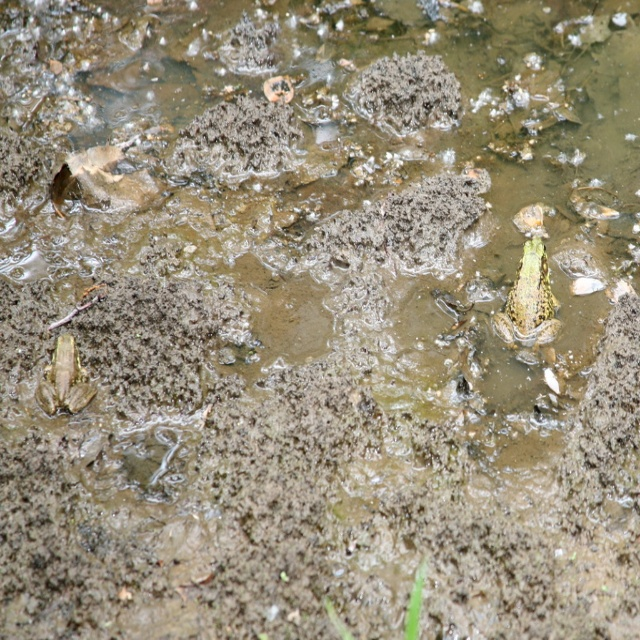Frog: (488, 236, 564, 347), (33, 336, 92, 414)
